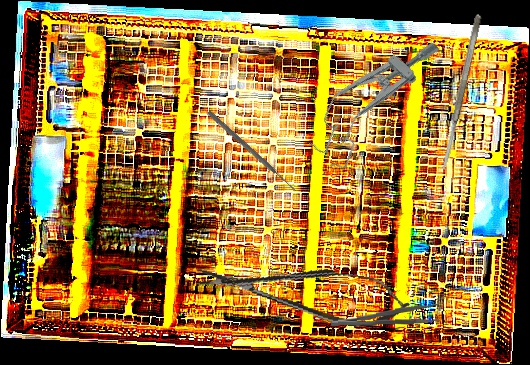Dressing Forceps: (330, 303, 441, 329)
Micro Scissor: (191, 244, 413, 337)
Pusher: (205, 109, 299, 194)
Spatula Surgical: (438, 13, 484, 172)
Speculum: (297, 18, 449, 175)
